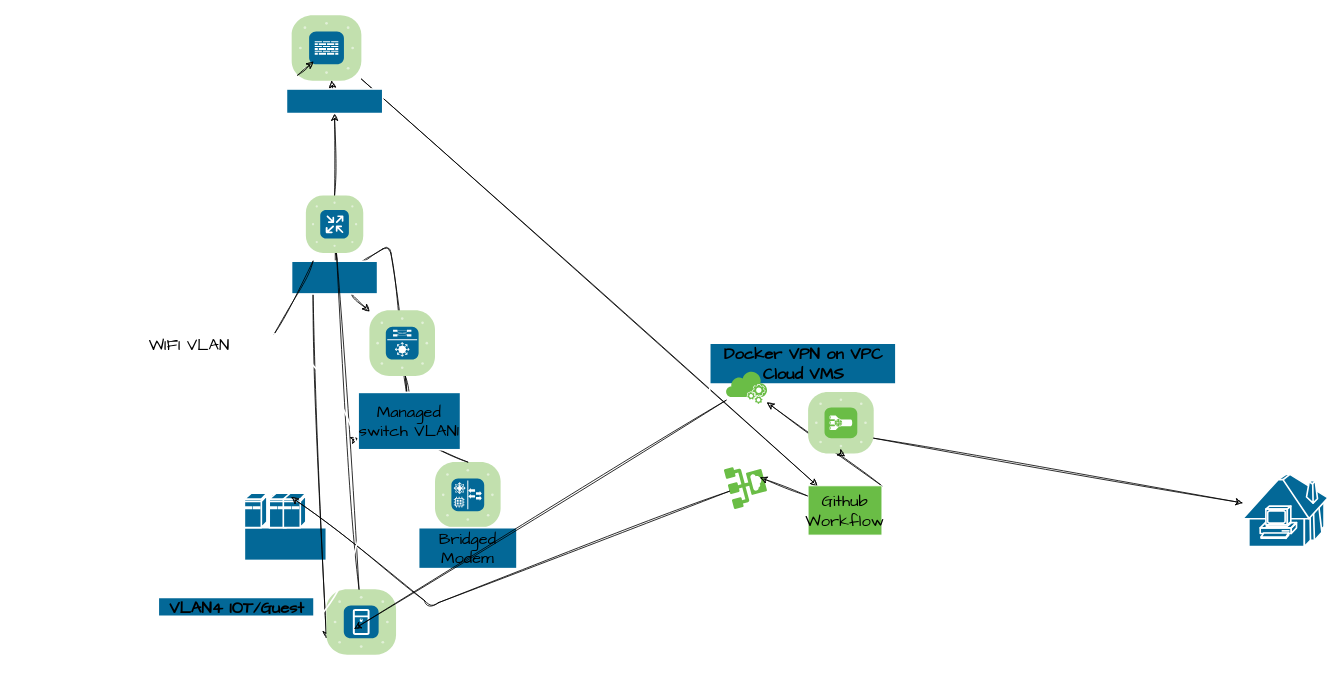
Image size: 1343x694. Some labels were removed from this diagram. The centre of each missing label's shape, as x and y in pixels:
"Firewall" goes at (334,101).
"Router" goes at (334,277).
"Server VLAN2" goes at (285,543).
